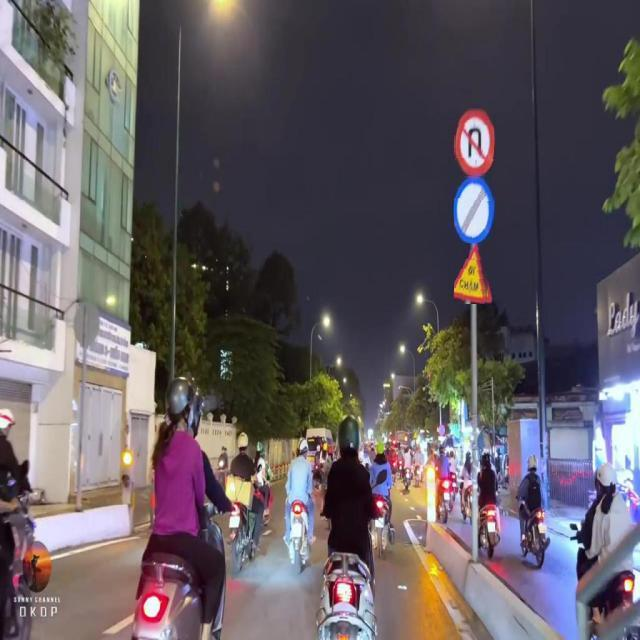124a-cam-quay-dau-xe: (454, 109, 494, 175)
245-di-cham: (452, 246, 490, 306)
